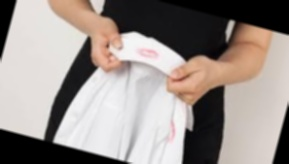lipstick: (160, 117, 182, 148), (134, 44, 166, 64)
